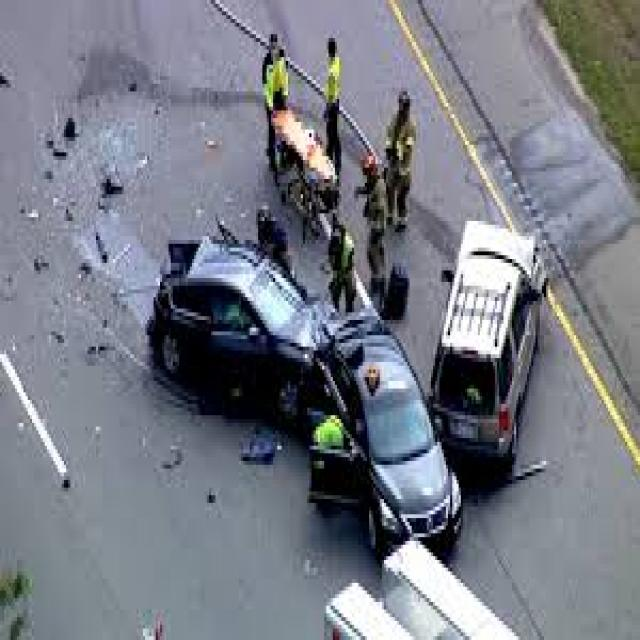accident: (128, 234, 458, 576)
